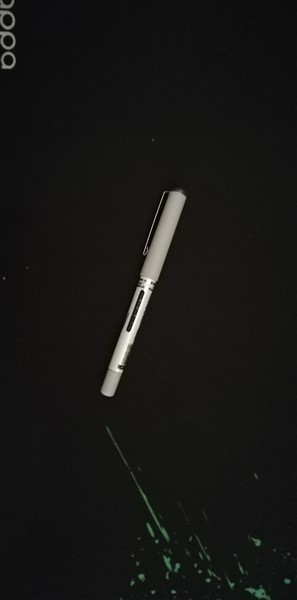pilot kalem: (97, 182, 191, 401)
